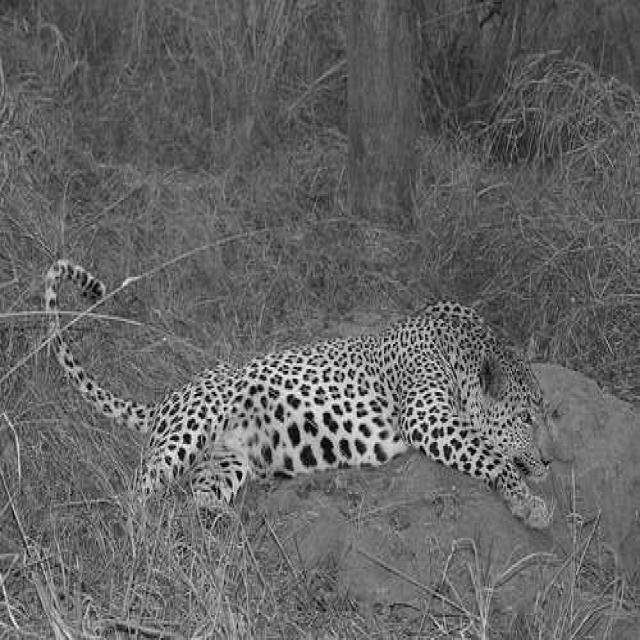Leopard: (43, 255, 556, 532)
